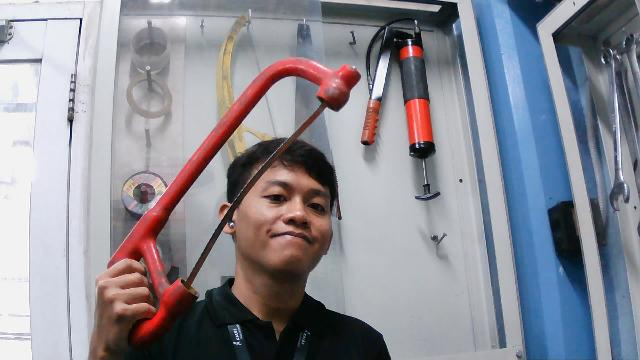gergaji_besi: (91, 56, 364, 354)
